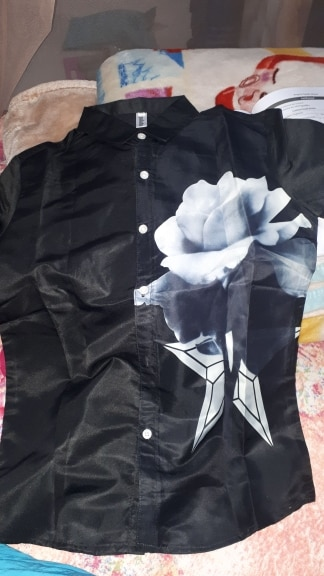shirts: (15, 101, 324, 537)
